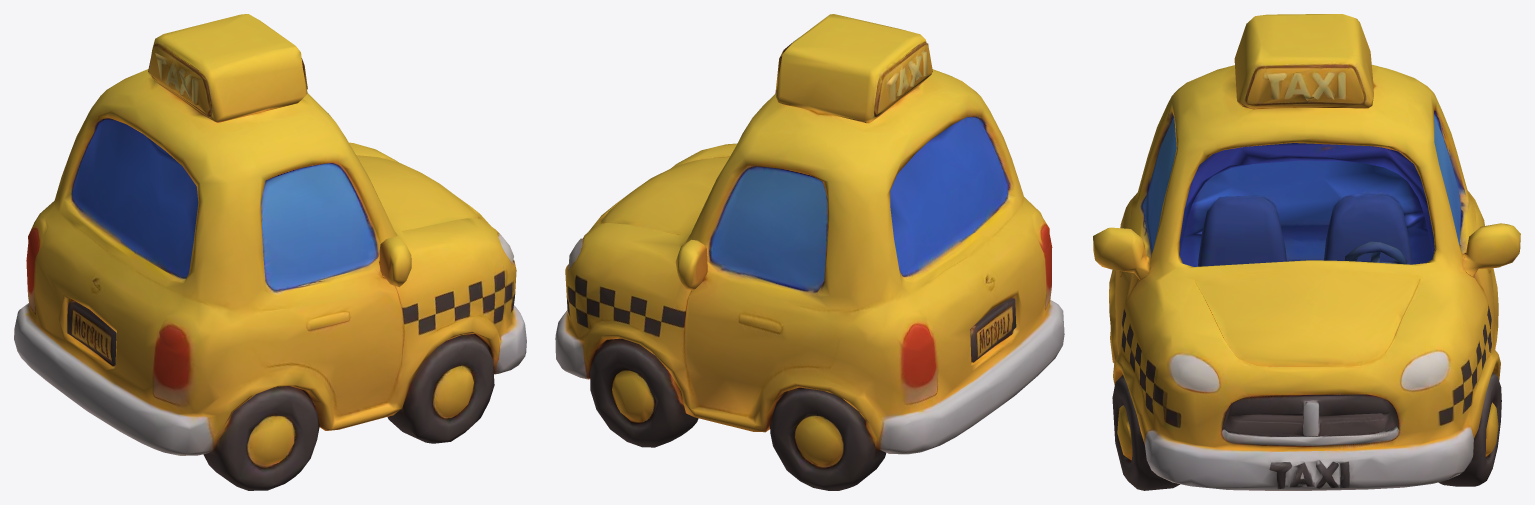
The model's file is taxi.glb.
3 views of the same model, side by side, from view 1: azimuth 30°, elevation 25°; view 2: azimuth 150°, elevation 25°; view 3: azimuth 270°, elevation 25° (orthographic).
Parts seen in each view (by area): view 1: tripo_node_1a31f9de-8d01-4392-9c70-6e3273be1b69; view 2: tripo_node_1a31f9de-8d01-4392-9c70-6e3273be1b69; view 3: tripo_node_1a31f9de-8d01-4392-9c70-6e3273be1b69.
Part boxes in pixels (x1,y1,x2,y2): tripo_node_1a31f9de-8d01-4392-9c70-6e3273be1b69: (14, 14, 526, 490); tripo_node_1a31f9de-8d01-4392-9c70-6e3273be1b69: (555, 14, 1064, 490); tripo_node_1a31f9de-8d01-4392-9c70-6e3273be1b69: (1093, 14, 1520, 490).
Size of the model in its own units: 1.38 by 1.2 by 1.22.
1 material, 1 textured.
